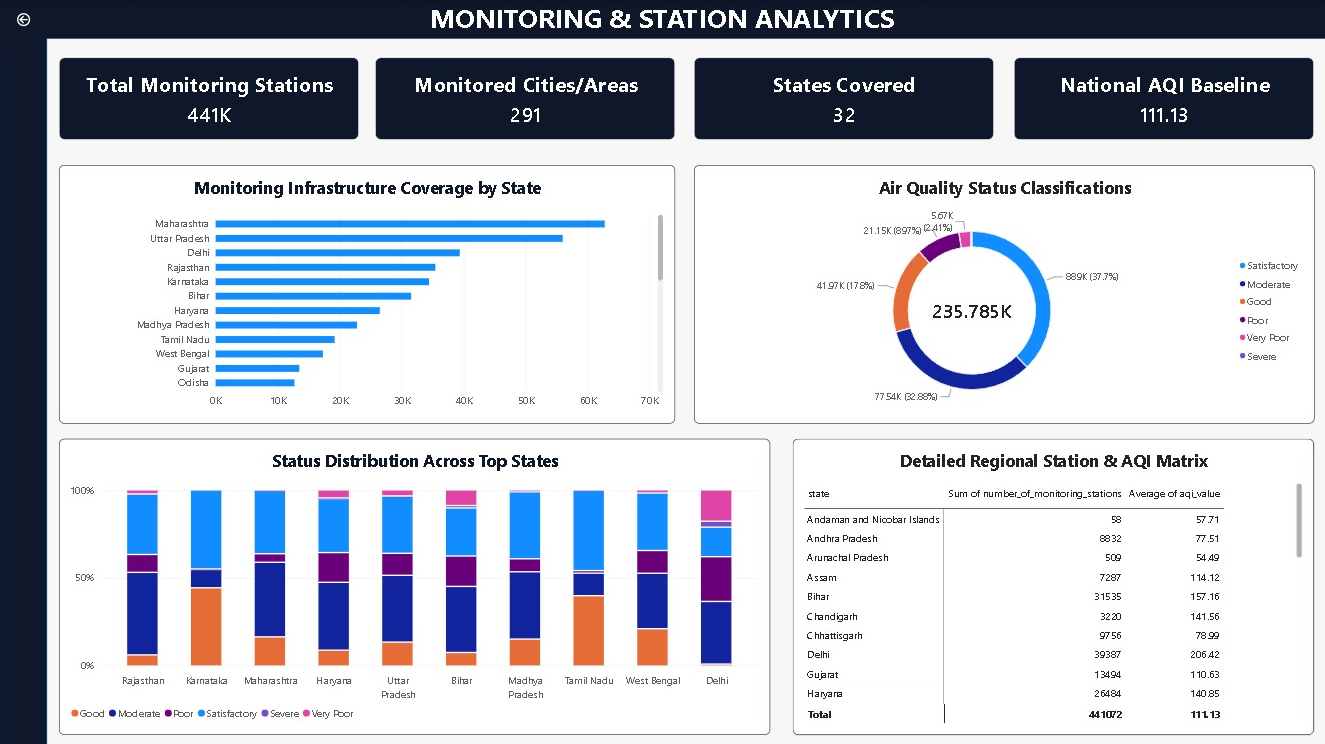

What the dashboard file says about the page in this screenshot:
{"tool":"powerbi","page":{"name":"Monitoring & Station Analytics","canvas":[1920,1080],"ordinal":2},"visuals":[{"type":"shape","box":[0,0,69.8,1081.3],"z":0},{"type":"textbox","box":[0,0,1920.1,56.1],"z":1},{"type":"actionButton","box":[0,0,70.6,56.1],"z":2},{"type":"cardVisual","title":"Total Monitoring Stations","fields":{"Data":["Sum(cleaned_aqi.number_of_monitoring_stations)"]},"box":[86.9,83.2,434.3,119.4],"z":3},{"type":"cardVisual","title":"Total Monitoring Stations","fields":{"Data":["Count(cleaned_aqi.area)"]},"box":[544.7,83.2,434,119.3],"z":4},{"type":"cardVisual","title":"Total Monitoring Stations","fields":{"Data":["Count(cleaned_aqi.state)"]},"box":[1006.2,83.2,434,119.3],"z":5},{"type":"cardVisual","title":"Total Monitoring Stations","fields":{"Data":["Avg(cleaned_aqi.aqi_value)"]},"box":[1469.4,83.2,434,119.4],"z":6},{"type":"clusteredBarChart","title":"Monitoring Infrastructure Coverage by State","fields":{"Category":["cleaned_aqi.state"],"Y":["Sum(cleaned_aqi.number_of_monitoring_stations)"]},"box":[86,238,892,374],"z":7},{"type":"donutChart","title":"Air Quality Status Classifications","fields":{"Category":["cleaned_aqi.air_quality_status"],"Y":["CountNonNull(cleaned_aqi.air_quality_status)"]},"box":[1006,238,898,374],"z":8},{"type":"pivotTable","title":"Detailed Regional Station & AQI Matrix","fields":{"Rows":["cleaned_aqi.state"],"Values":["Sum(cleaned_aqi.number_of_monitoring_stations)","Avg(cleaned_aqi.aqi_value)"]},"box":[1149.1,635.2,754.6,428.9],"z":9},{"type":"hundredPercentStackedColumnChart","title":"Status Distribution Across Top States","fields":{"Category":["cleaned_aqi.state"],"Series":["cleaned_aqi.air_quality_status"],"Y":["CountNonNull(cleaned_aqi.air_quality_status)"]},"box":[86.9,635.2,1029.7,428.9],"z":10}]}

Visuals, with their boxes in screenshot pixels (x1, y1, x2, y2), scaled from the page's 1920x1080 canvas onto the 1325x744 screenshot:
shape: [left=0, top=0, right=48, bottom=743]
textbox: [left=0, top=0, right=1324, bottom=39]
actionButton: [left=0, top=0, right=49, bottom=39]
"Total Monitoring Stations" cardVisual: [left=60, top=57, right=360, bottom=140]
"Total Monitoring Stations" cardVisual: [left=376, top=57, right=675, bottom=140]
"Total Monitoring Stations" cardVisual: [left=694, top=57, right=994, bottom=140]
"Total Monitoring Stations" cardVisual: [left=1014, top=57, right=1314, bottom=140]
"Monitoring Infrastructure Coverage by State" clusteredBarChart: [left=59, top=164, right=675, bottom=422]
"Air Quality Status Classifications" donutChart: [left=694, top=164, right=1314, bottom=422]
"Detailed Regional Station & AQI Matrix" pivotTable: [left=793, top=438, right=1314, bottom=733]
"Status Distribution Across Top States" hundredPercentStackedColumnChart: [left=60, top=438, right=771, bottom=733]
